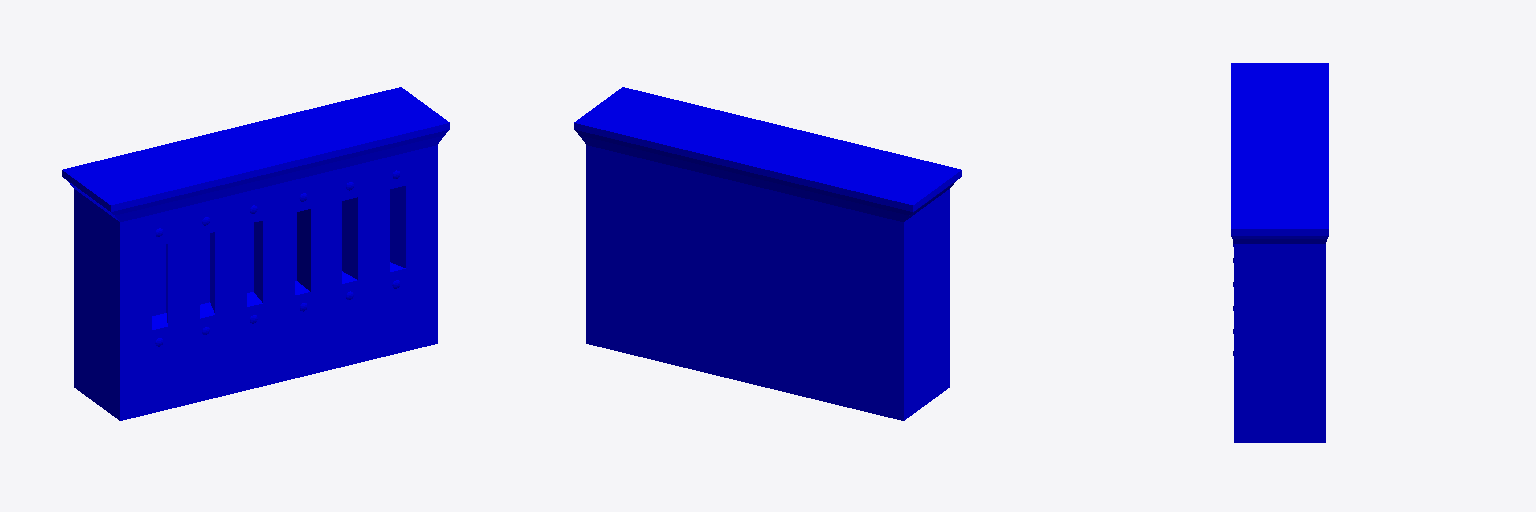
The model's file is wall_blue.obj.
3 renders of one model, left to right at view 1: azimuth 30°, elevation 25°; view 2: azimuth 150°, elevation 25°; view 3: azimuth 270°, elevation 25°, orthographic.
Size of the model in its own units: 8.56 by 5.29 by 2.14.